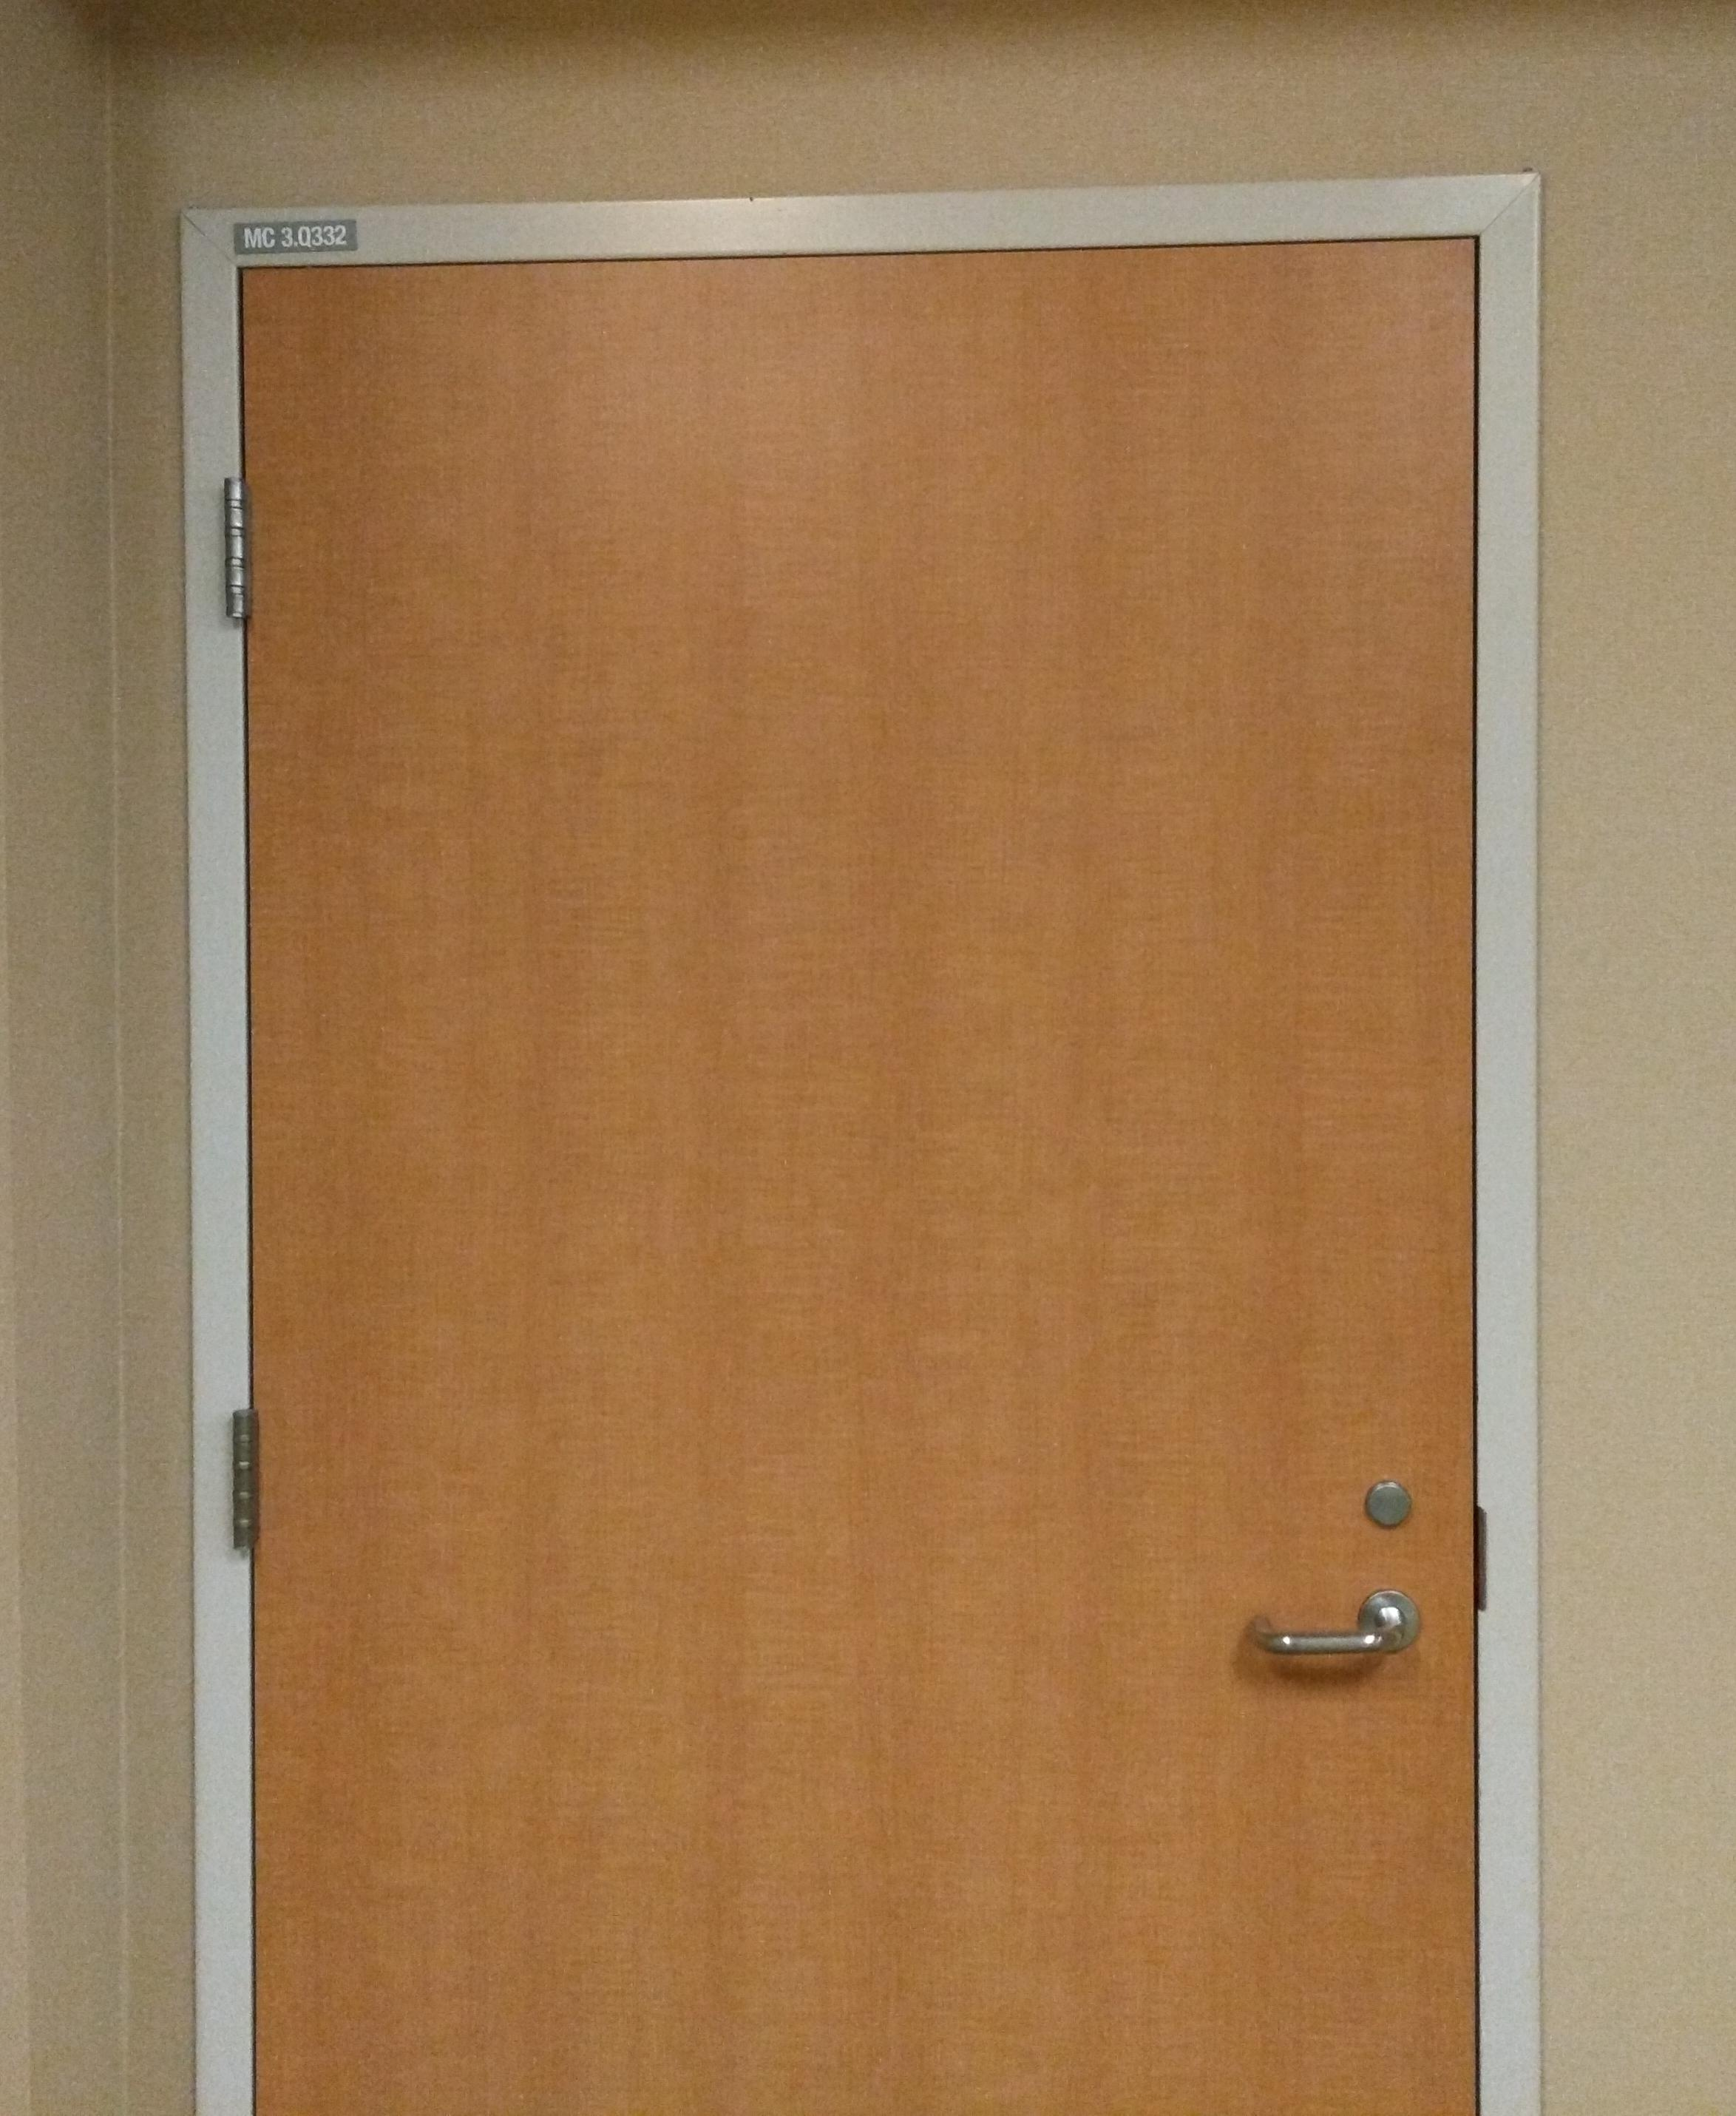door: (209, 243, 1504, 2116)
